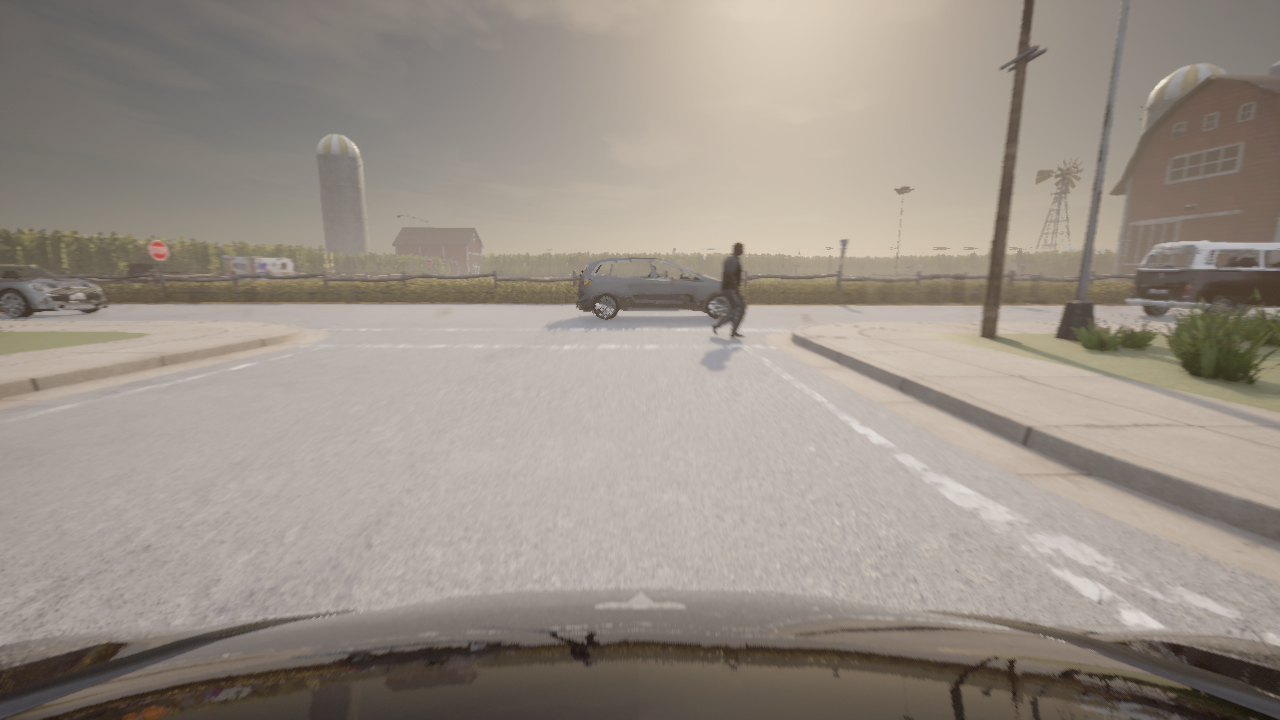cyclist: (0, 588, 1279, 719), (1126, 242, 1279, 316), (576, 257, 744, 320), (223, 257, 307, 281), (127, 262, 202, 284)
pedestrian: (711, 241, 746, 337)
